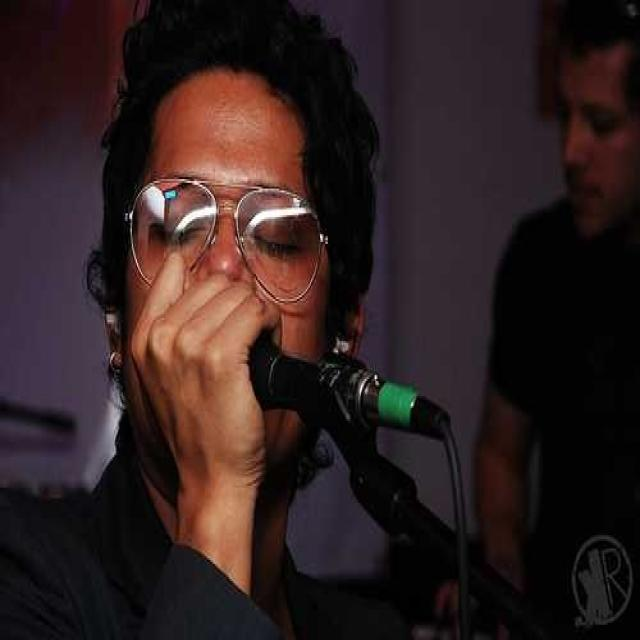microphone: (217, 332, 441, 418)
